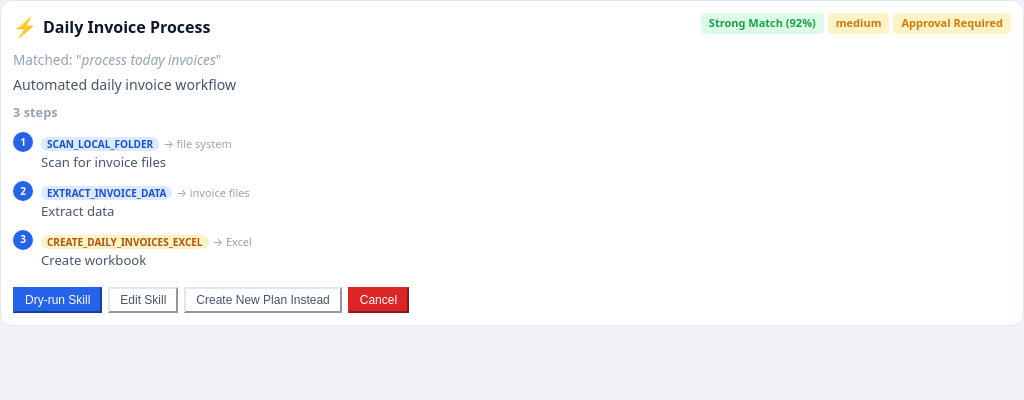
Test: SkillMatchCard › shows dry-run error message on failure
Click the button "Dry-run Skill" at [58, 300], box [13,286,102,312]
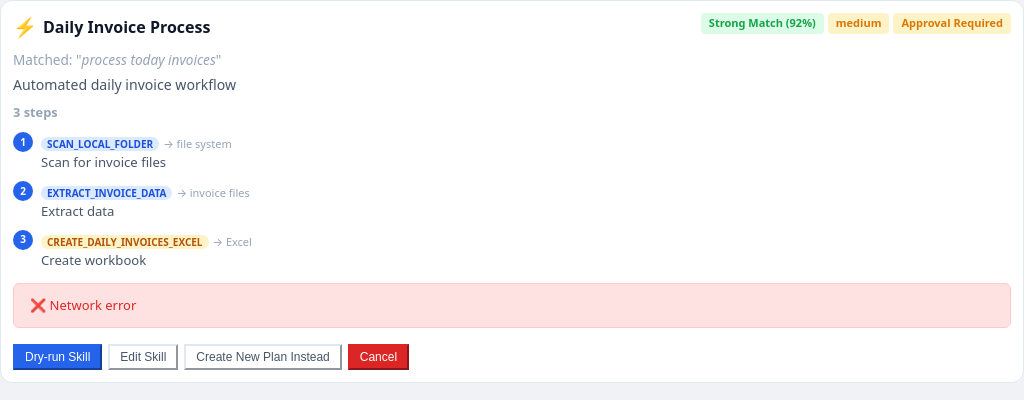
Expected: the text "❌ Network error" is shown, [13,282,1011,328]
